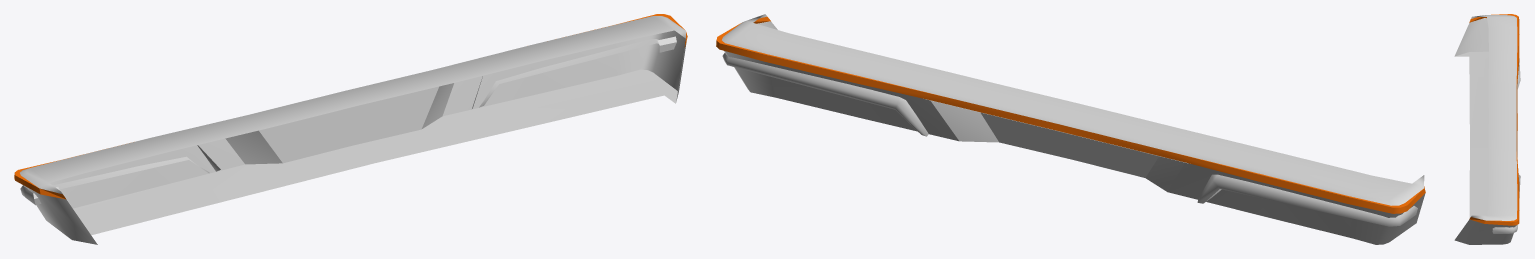
File: Muscle_2_Bumper_F_1.fbx
3 renders of one model, left to right at view 1: azimuth 30°, elevation 25°; view 2: azimuth 150°, elevation 25°; view 3: azimuth 270°, elevation 25°, orthographic. The views are drawn at different scales.
Parts seen in each view (by area): view 1: Muscle_2_Bumper_F_1; view 2: Muscle_2_Bumper_F_1; view 3: Muscle_2_Bumper_F_1.
Boxes of the visible parts, bbox=[...] form: Muscle_2_Bumper_F_1: bbox=[14, 14, 687, 244]; Muscle_2_Bumper_F_1: bbox=[716, 14, 1425, 244]; Muscle_2_Bumper_F_1: bbox=[1454, 14, 1520, 244].
Bounding box in the file's own units: 160 × 11.65 × 21.51.
